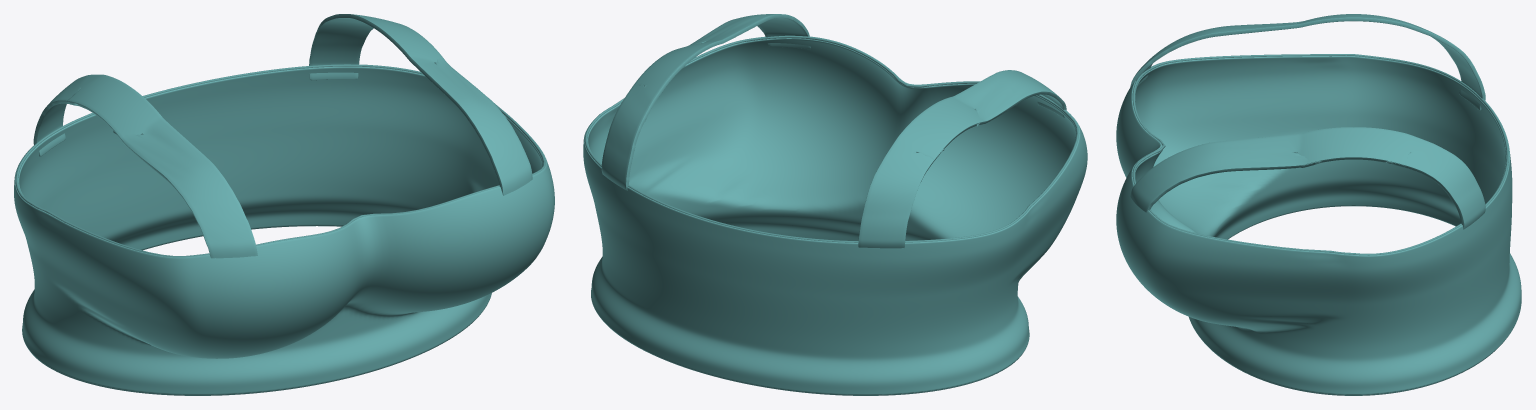
File: Feminine-tank-top.glb
3 views of the same model, side by side, from view 1: azimuth 30°, elevation 25°; view 2: azimuth 150°, elevation 25°; view 3: azimuth 270°, elevation 25° (orthographic). The views are drawn at different scales.
Parts seen in each view (by area): view 1: Clothing / tank body, Clothing / tank strap -1, Clothing / tank strap 1, tank body / bound edge.001 export, tank body / bound edge export; view 2: Clothing / tank body, Clothing / tank strap -1, Clothing / tank strap 1, tank body / bound edge.001 export, tank body / bound edge export; view 3: Clothing / tank body, Clothing / tank strap 1, Clothing / tank strap -1, tank body / bound edge.001 export, tank body / bound edge export.
Boxes of the visible parts, <box> form: Clothing / tank body: <box>14,66,554,394</box>; Clothing / tank strap -1: <box>33,74,257,258</box>; Clothing / tank strap 1: <box>309,14,532,195</box>; tank body / bound edge.001 export: <box>15,64,545,257</box>; tank body / bound edge export: <box>31,225,478,395</box>; Clothing / tank body: <box>583,36,1087,394</box>; Clothing / tank strap -1: <box>858,70,1066,248</box>; Clothing / tank strap 1: <box>601,14,810,190</box>; tank body / bound edge.001 export: <box>584,35,1079,242</box>; tank body / bound edge export: <box>603,321,1022,395</box>; Clothing / tank body: <box>1116,55,1521,394</box>; Clothing / tank strap 1: <box>1130,127,1485,229</box>; Clothing / tank strap -1: <box>1130,14,1485,110</box>; tank body / bound edge.001 export: <box>1132,54,1509,255</box>; tank body / bound edge export: <box>1211,205,1502,395</box>.
Size of the model in its own units: 0.6458 by 0.342 by 0.55.
